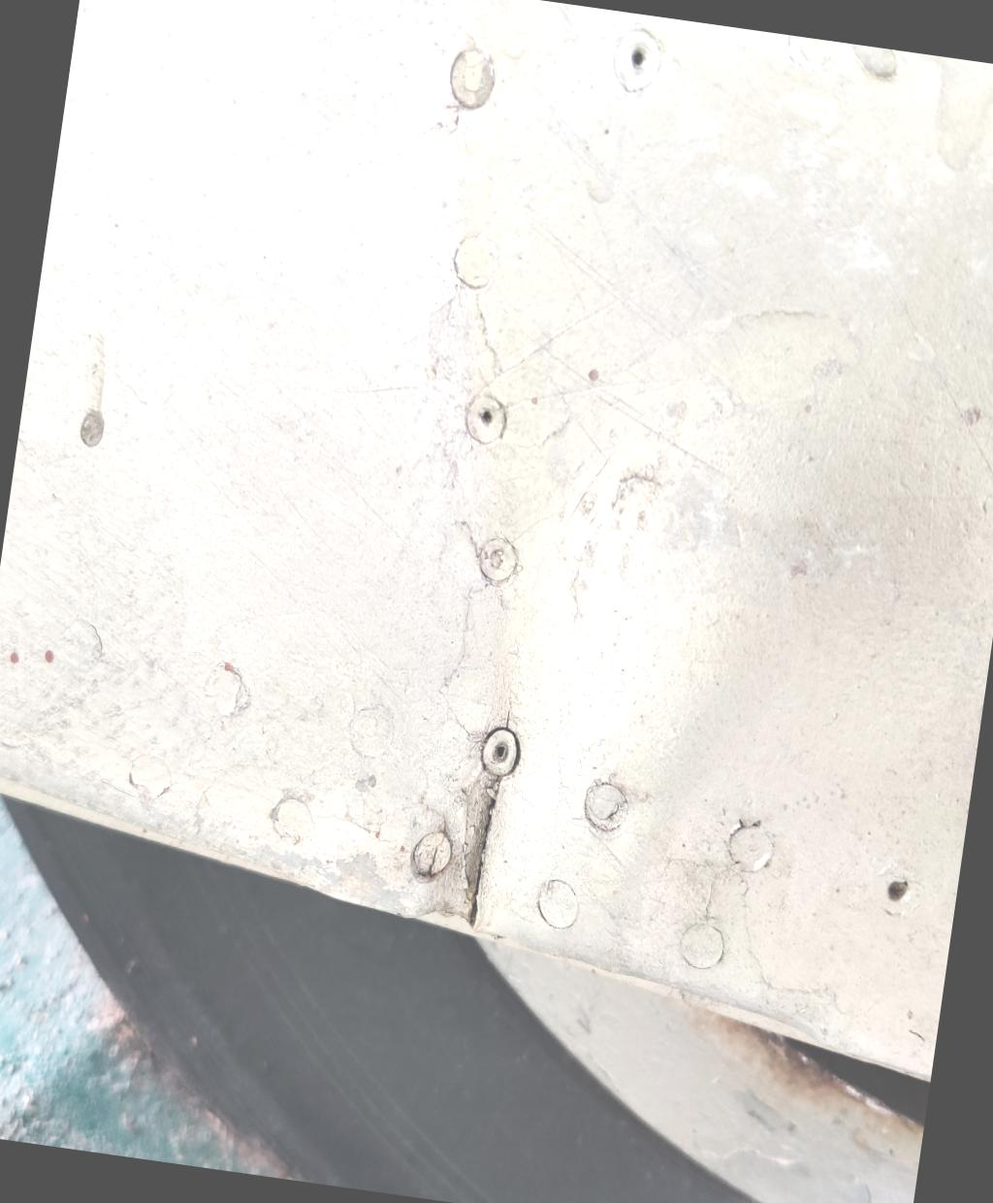crack: (417, 743, 563, 955)
